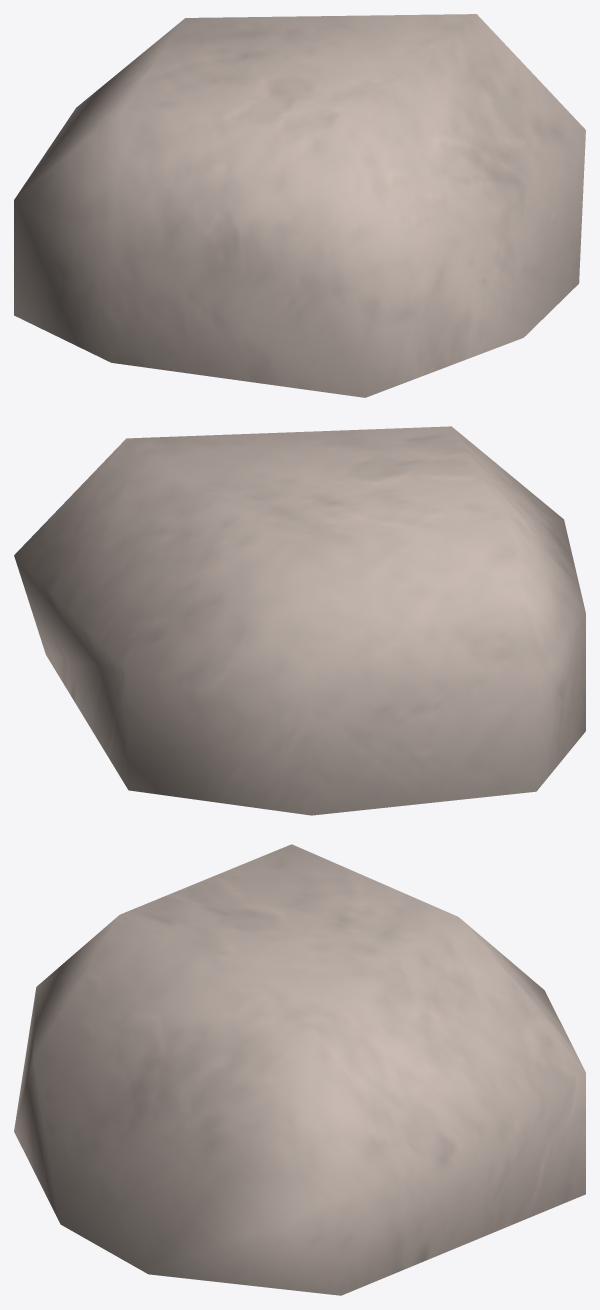
Rendered from polygonalmind-lunar-year-040.glb.
3 renders of one model, top to bottom at view 1: azimuth 30°, elevation 25°; view 2: azimuth 150°, elevation 25°; view 3: azimuth 270°, elevation 25°, orthographic. The views are drawn at different scales.
Parts seen in each view (by area): view 1: Rock01; view 2: Rock01; view 3: Rock01.
Boxes of the visible parts, x1=… form: Rock01: x1=14, y1=14, x2=585, y2=397; Rock01: x1=14, y1=426, x2=585, y2=815; Rock01: x1=14, y1=844, x2=585, y2=1295.
Bounding box in the file's own units: 1.16 × 0.4811 × 1.08.
1 material, 1 textured.
